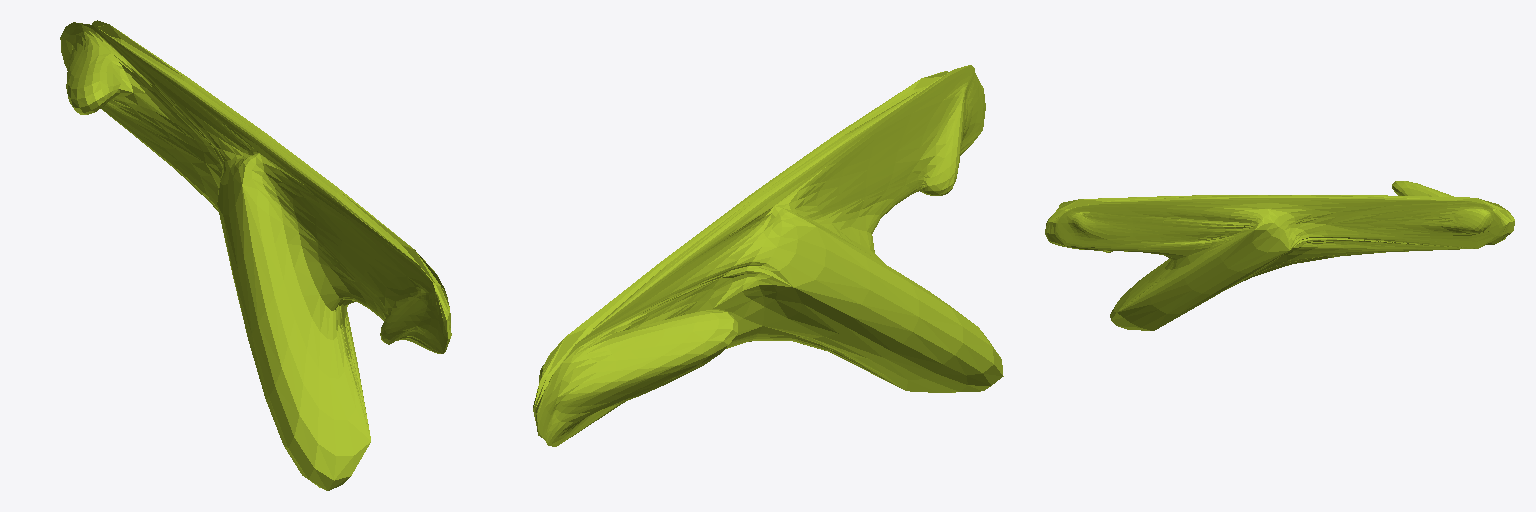
The robot description file, URDF, robot "blob190":

<robot name="blob190">
  <link name="random_obj_190">
    <contact>
      <lateral_friction value="1.0"/>
      <rolling_friction value="0.0"/>
      <inertia_scaling value="3.0"/>
      <contact_cfm value="0.0"/>
      <contact_erp value="1.0"/>
    </contact>
    <inertial>
      <origin rpy="0 0 0" xyz="0 0 0"/>
      <mass value="0.1412"/>
      <inertia ixx="1" ixy="0" ixz="0" iyy="1" iyz="0" izz="0"/>
    </inertial>
    <visual>
      <origin rpy="0 0 0" xyz="0 0 0"/>
      <geometry>
        <mesh filename="190.obj" scale="0.0065 0.0065 0.0065"/>
      </geometry>
      <material name="blockmat">
        <color rgba="0.69 0.78 0.22 1"/>
      </material>
    </visual>
    <collision>
      <origin rpy="0 0 0" xyz="0 0 0"/>
      <geometry>
        <mesh filename="190_coll.obj" scale="0.0065 0.0065 0.0065"/>
      </geometry>
    </collision>
  </link>
</robot>

--- What the picture shows (computed from the rendered views, not written in the file) ---
3 views of the same robot in one strip: view 1: azimuth 30°, elevation 25°; view 2: azimuth 150°, elevation 25°; view 3: azimuth 270°, elevation 25° (orthographic).
Model blob190 with 1 links and 0 joints (none), rooted at random_obj_190, posed all joints at 0.
Visible links, largest first — view 1: random_obj_190; view 2: random_obj_190; view 3: random_obj_190.
Boxes of the visible links, x1,y1,x2,y2 form: random_obj_190: [60, 20, 451, 490]; random_obj_190: [533, 65, 1003, 446]; random_obj_190: [1045, 181, 1514, 330].
Size in the robot's own frame: 0.0144 by 0.0767 by 0.0268 metres.
Meshes: 1 distinct files referenced, 1 mesh visuals loaded (1 OBJ).
